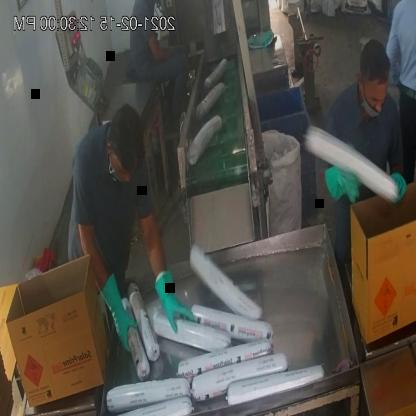glove: (96, 268, 140, 362), (154, 259, 200, 336), (320, 154, 368, 210)
no_glove: (142, 40, 181, 67)
